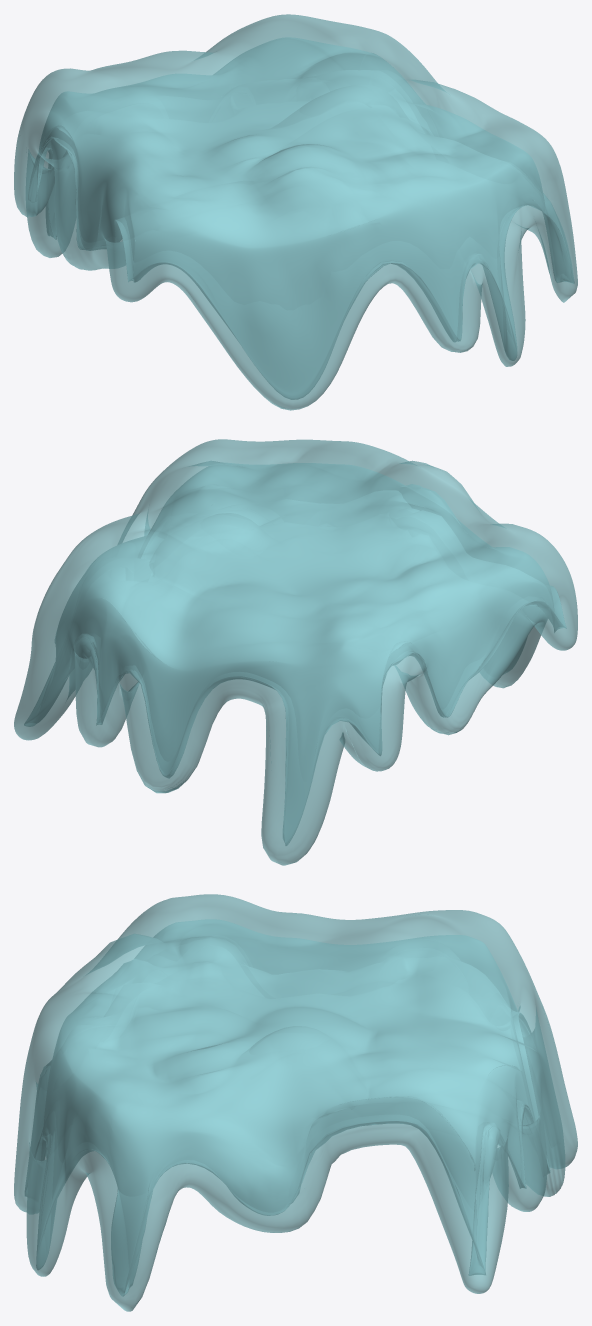
Rendered from lava.fbx.
The picture shows the model from 3 angles, top to bottom: view 1: azimuth 30°, elevation 25°; view 2: azimuth 150°, elevation 25°; view 3: azimuth 270°, elevation 25°; orthographic projection. The views are drawn at different scales.
Parts seen in each view (by area): view 1: lava; view 2: lava; view 3: lava.
Boxes of the visible parts, x1,y1,x2,y2 form: lava: [14, 14, 577, 410]; lava: [14, 439, 577, 865]; lava: [14, 894, 577, 1311].
Size of the model in its own units: 2239 by 1144 by 2270.
